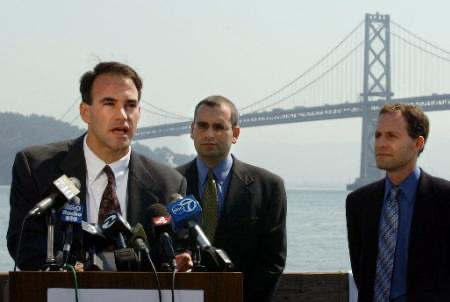Face: (91, 84, 148, 156), (188, 109, 237, 169), (370, 117, 416, 179)
